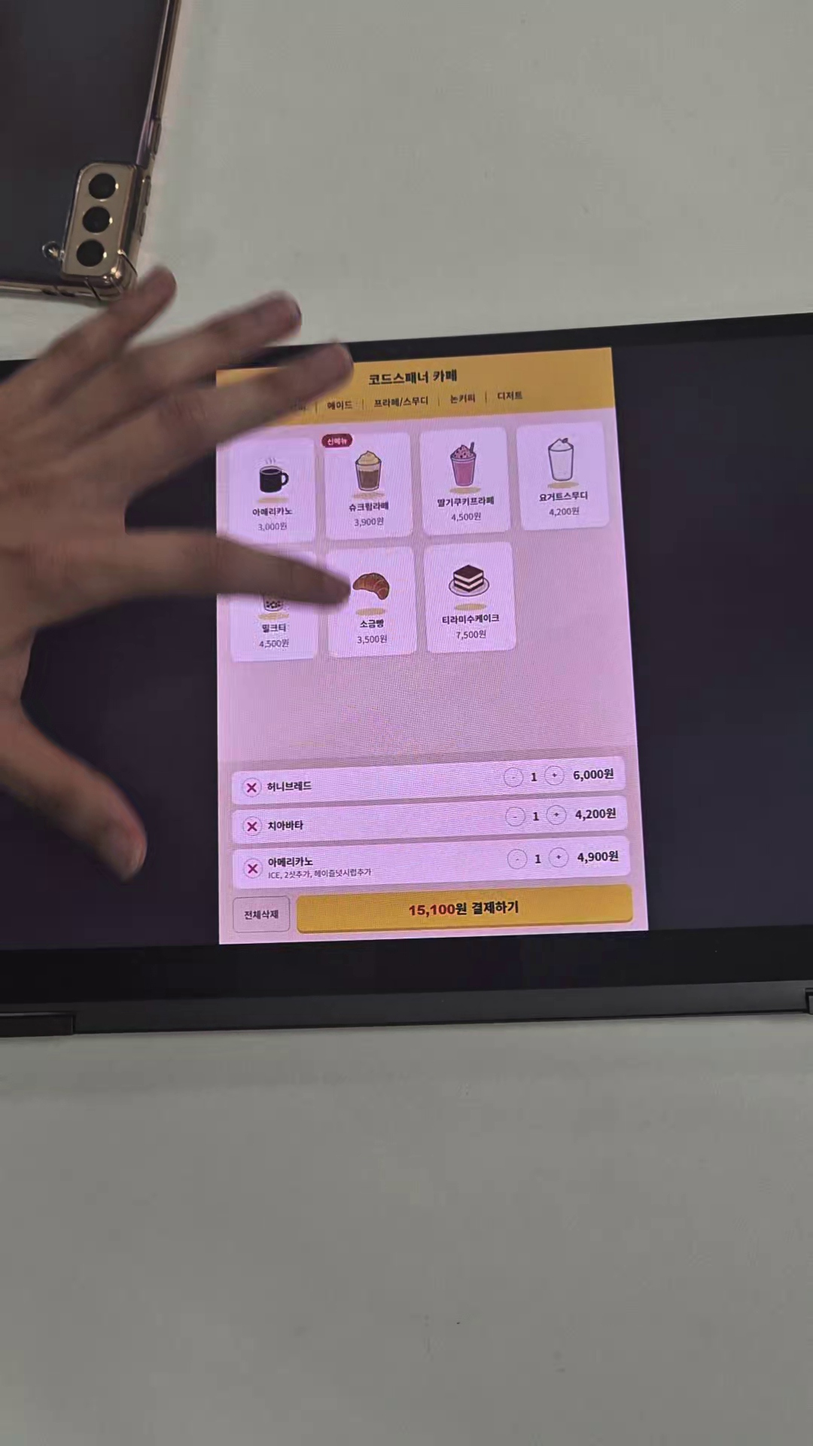action_button: (296, 885, 633, 933), (232, 896, 291, 932)
cart_item: (232, 835, 631, 890), (231, 756, 626, 805), (232, 796, 628, 844)
category_tab: (373, 395, 429, 409), (447, 393, 477, 406), (325, 399, 354, 412), (494, 390, 524, 402)
menu_back: (515, 419, 609, 531), (424, 541, 517, 653), (325, 545, 417, 656), (419, 427, 511, 536), (229, 549, 318, 660), (227, 436, 316, 544), (325, 433, 414, 540)
menu_name: (436, 495, 496, 509), (440, 613, 501, 626), (538, 490, 589, 503), (267, 780, 312, 794), (268, 856, 314, 869), (347, 500, 390, 513), (251, 506, 293, 517), (267, 820, 304, 832), (359, 618, 385, 629), (261, 623, 287, 633)
menu_price: (573, 806, 619, 823), (575, 849, 621, 866), (572, 767, 615, 785), (450, 511, 482, 523), (256, 521, 288, 533), (258, 638, 290, 650), (455, 629, 487, 641), (548, 506, 580, 517), (352, 516, 384, 527), (356, 634, 388, 645)
